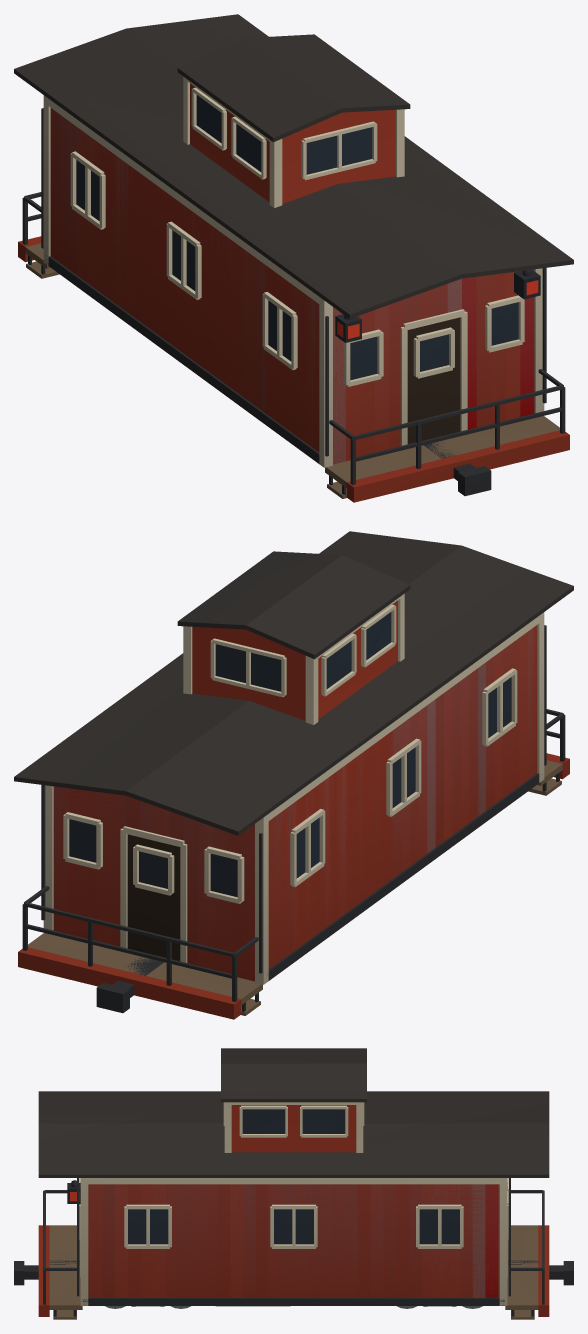
The model's file is van.glb.
The picture shows the model from 3 angles, top to bottom: view 1: azimuth 30°, elevation 25°; view 2: azimuth 150°, elevation 25°; view 3: azimuth 270°, elevation 25°; orthographic projection. The views are drawn at different scales.
Parts seen in each view (by area): view 1: Body, Far; view 2: Body, Far; view 3: Body, Far.
Boxes of the visible parts, x1=… form: Body: x1=14, y1=14, x2=573, y2=502; Far: x1=50, y1=110, x2=534, y2=463; Body: x1=14, y1=531, x2=573, y2=1019; Far: x1=53, y1=625, x2=537, y2=979; Body: x1=14, y1=1048, x2=573, y2=1319; Far: x1=71, y1=1180, x2=499, y2=1306.
Bounding box in the file's own units: 5.4 × 6.77 × 15.36.
